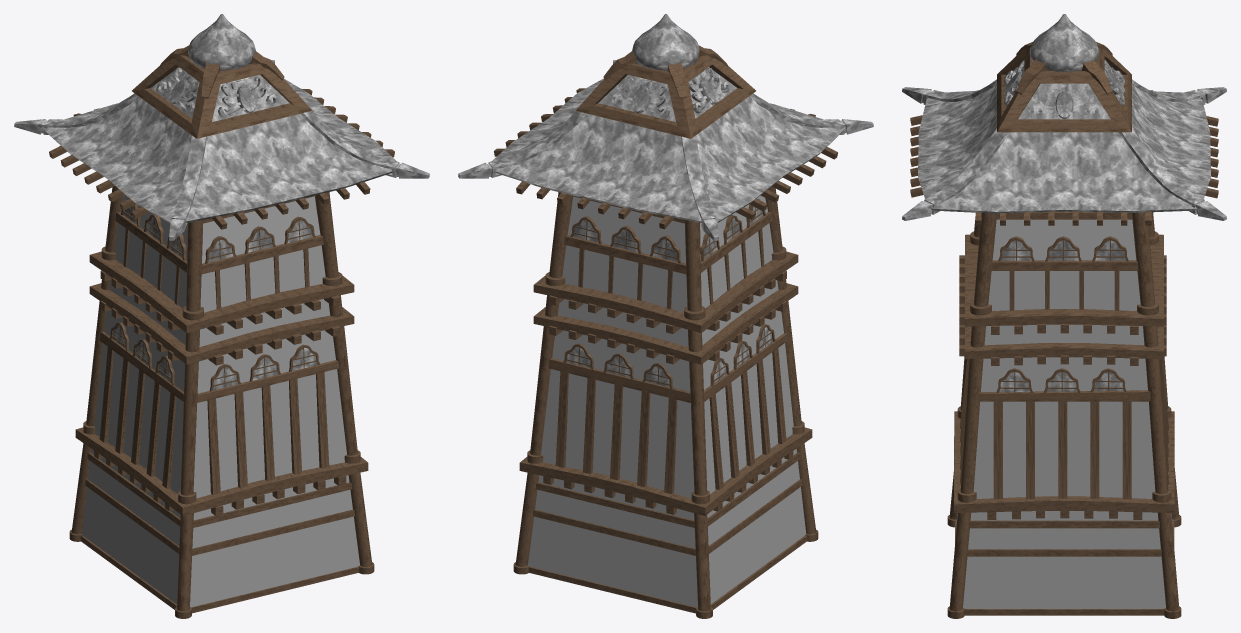
Rendered from SM_tower.fbx.
3 views of the same model, side by side, from view 1: azimuth 30°, elevation 25°; view 2: azimuth 150°, elevation 25°; view 3: azimuth 270°, elevation 25° (orthographic). The views are drawn at different scales.
Parts seen in each view (by area): view 1: SM_tower; view 2: SM_tower; view 3: SM_tower.
Boxes of the visible parts, x1=… form: SM_tower: x1=14, y1=14, x2=429, y2=618; SM_tower: x1=458, y1=14, x2=873, y2=618; SM_tower: x1=902, y1=14, x2=1226, y2=618.
Bounding box in the file's own units: 2065 × 2168 × 4089.
Materials: 5 (5 with a texture image).
